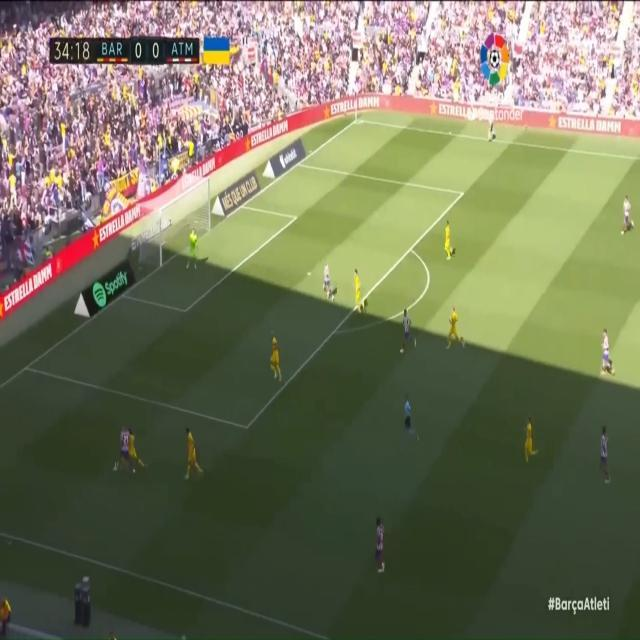ball: (110, 459, 120, 480)
goalkeeper: (182, 223, 201, 275)
player: (364, 508, 392, 582), (588, 418, 611, 487), (262, 325, 285, 388), (181, 426, 204, 482), (127, 421, 148, 476), (522, 398, 540, 459), (399, 306, 417, 363), (597, 324, 615, 380), (118, 428, 136, 480), (448, 298, 464, 356), (350, 267, 367, 317), (619, 192, 635, 244), (440, 217, 457, 265), (320, 251, 335, 304)
referee: (397, 381, 418, 449), (482, 114, 499, 147)
